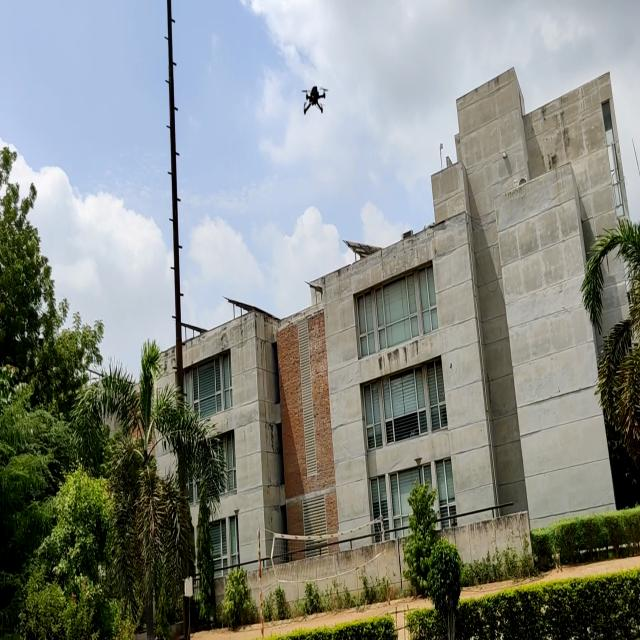drone: (292, 82, 329, 120)
